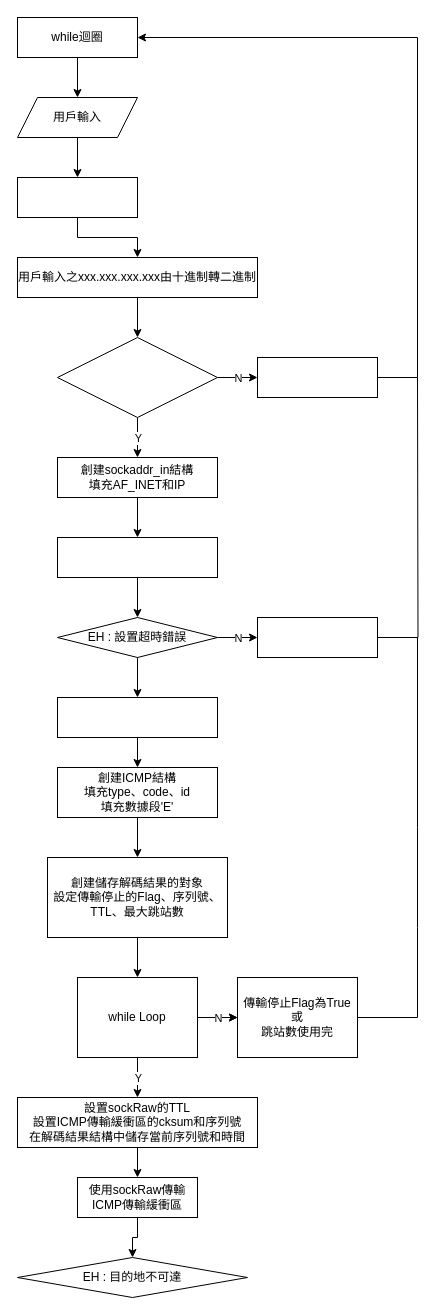
The diagram is 443 pixels wide and 1315 high, and some of its shapes have lost their labels. The shapes that lost their labels are listed below. From the top down, each one's centre as x and y in pixels, then its label:
At (x=77, y=197): "初始化winsock2".
At (x=137, y=377): "EH :域名解析錯誤 使用域名解析".
At (x=317, y=377): "無法處理用戶輸入。 處理後返回".
At (x=137, y=557): "創建Raw類型的Socket 設置Socket的超時".
At (x=317, y=637): "設置錯誤。 處理後返回".
At (x=137, y=717): "設置傳輸ICMP包的buffer 設置接收ICMP包的buffer".
